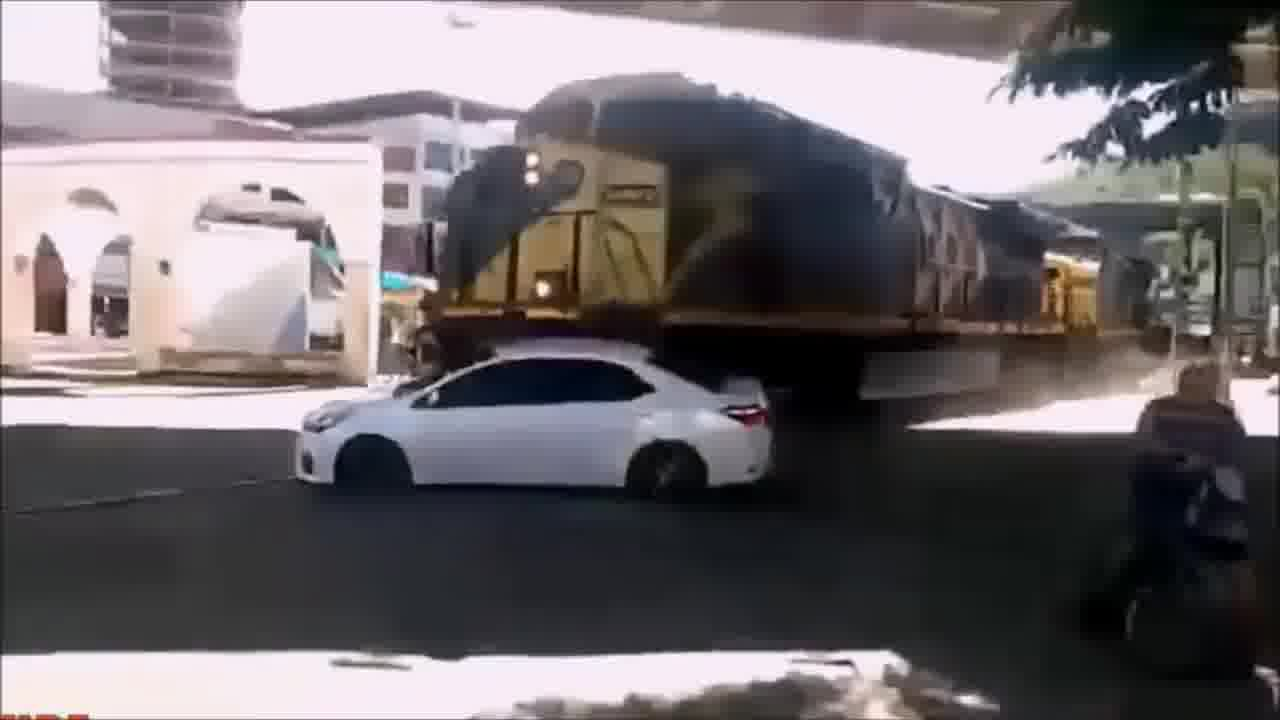crossing railway track: (266, 279, 849, 544)
